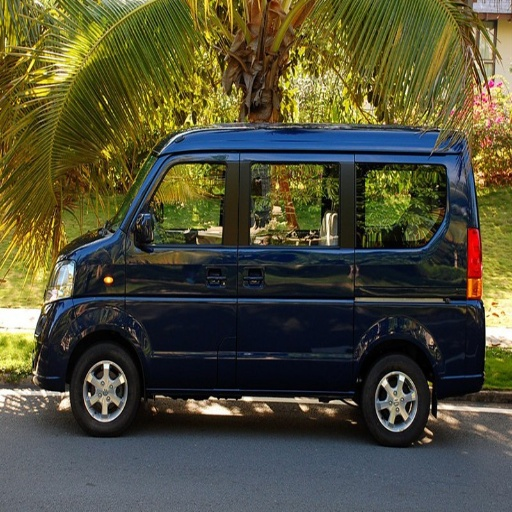back_glass: (361, 14, 461, 79)
front_left_door: (128, 146, 236, 381)
trunk: (335, 296, 477, 394)
